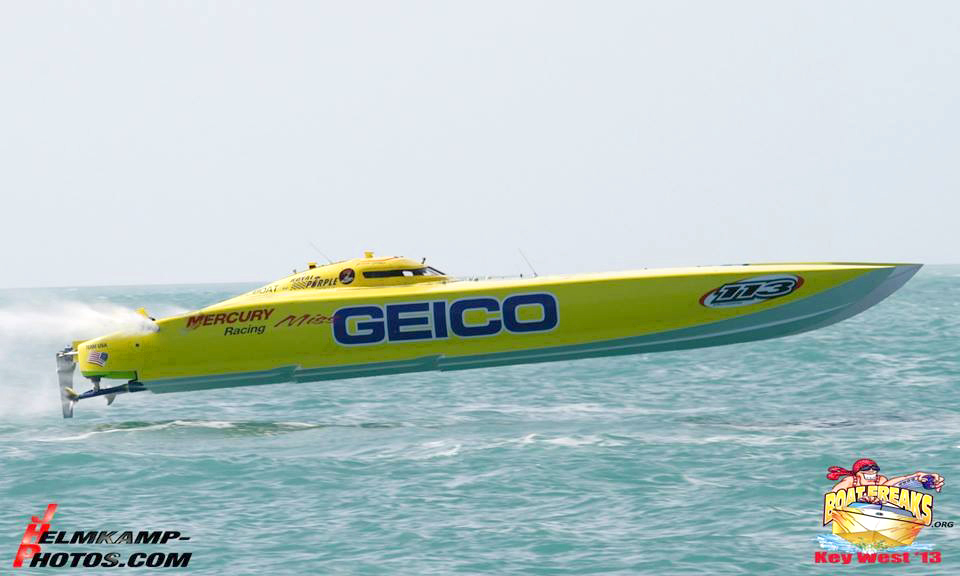Geico: (327, 292, 567, 342)
